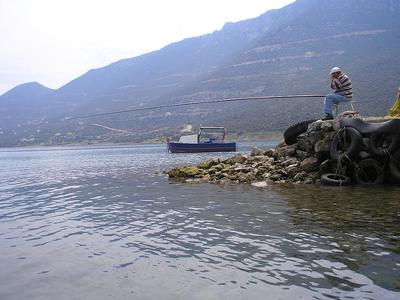person: (322, 67, 354, 122)
